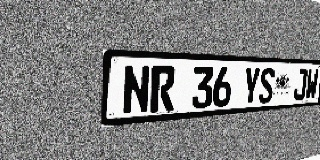3: (192, 66, 214, 109)
6: (212, 67, 233, 108)
J: (293, 68, 308, 101)
N: (122, 65, 151, 115)
R: (150, 65, 176, 113)
S: (258, 68, 275, 104)
W: (305, 69, 319, 100)
Y: (242, 67, 260, 105)
